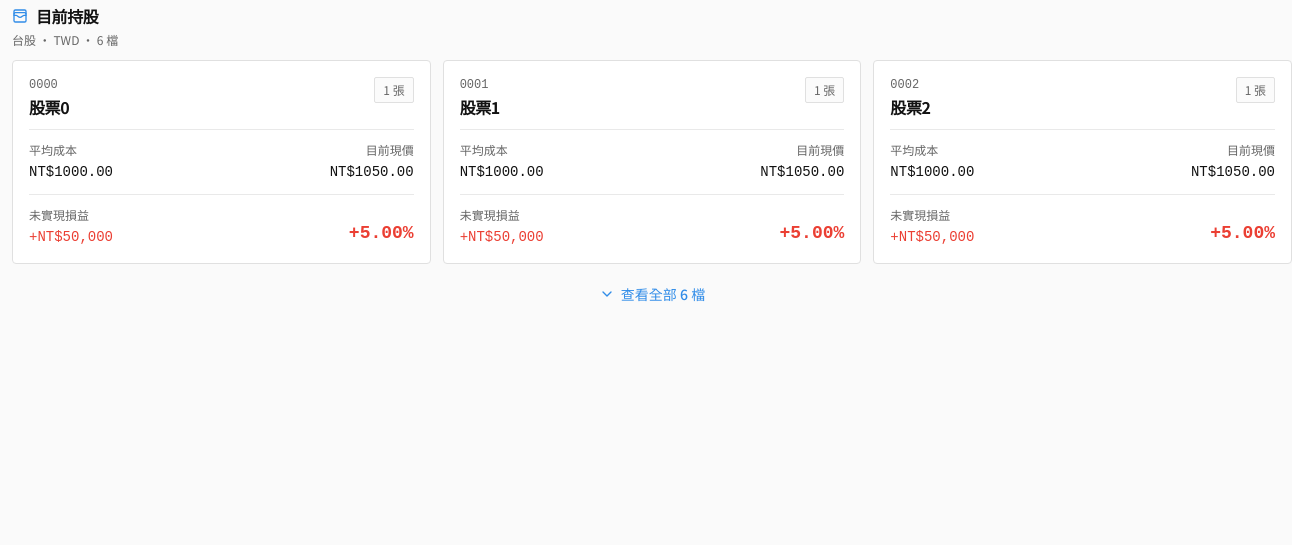
Test: CurrentHoldingsGridView › 預設三檔，可展開六檔並收合
This screenshot has width=1292, height=545.
Expected: the number of elements with test id "journal-holding-card" is 3, 12,60 -> 431,264; 443,60 -> 861,264; 873,60 -> 1291,264
Step 1. Click the button with test id "journal-holdings-toggle" → (652,294), box 587,276 -> 717,312
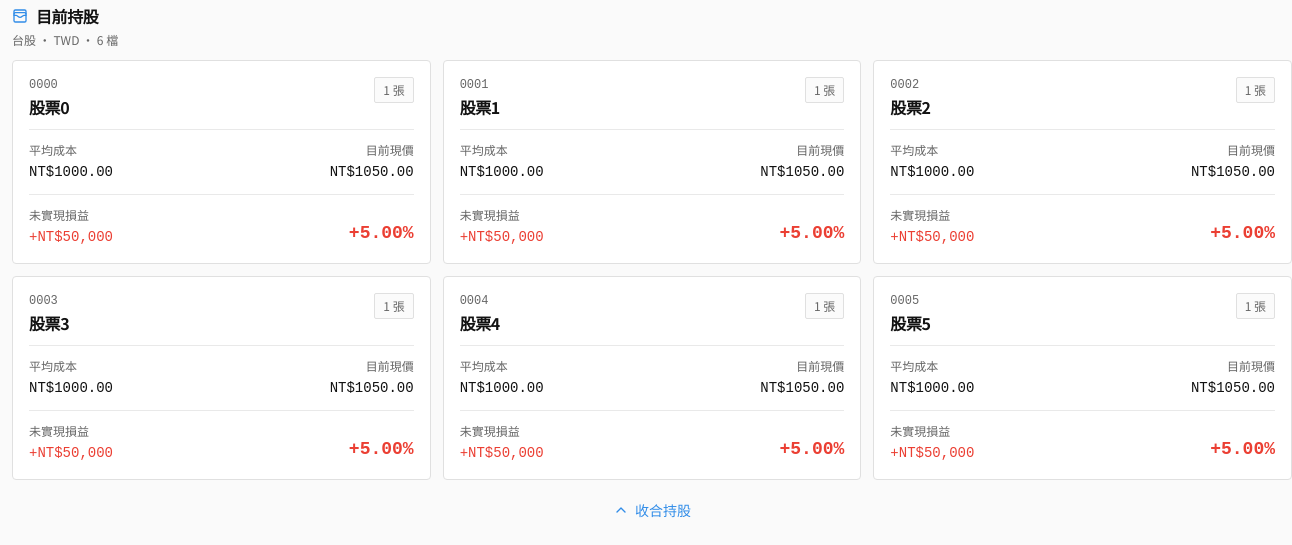
Result: the number of elements with test id "journal-holding-card" is 6 at 12,60 -> 431,264; 443,60 -> 861,264; 873,60 -> 1291,264; 12,276 -> 431,480; 443,276 -> 861,480; 873,276 -> 1291,480
Result: the button with test id "journal-holdings-toggle" is expanded
Step 2. Click the button with test id "journal-holdings-toggle" → (652,510), box 601,492 -> 703,528
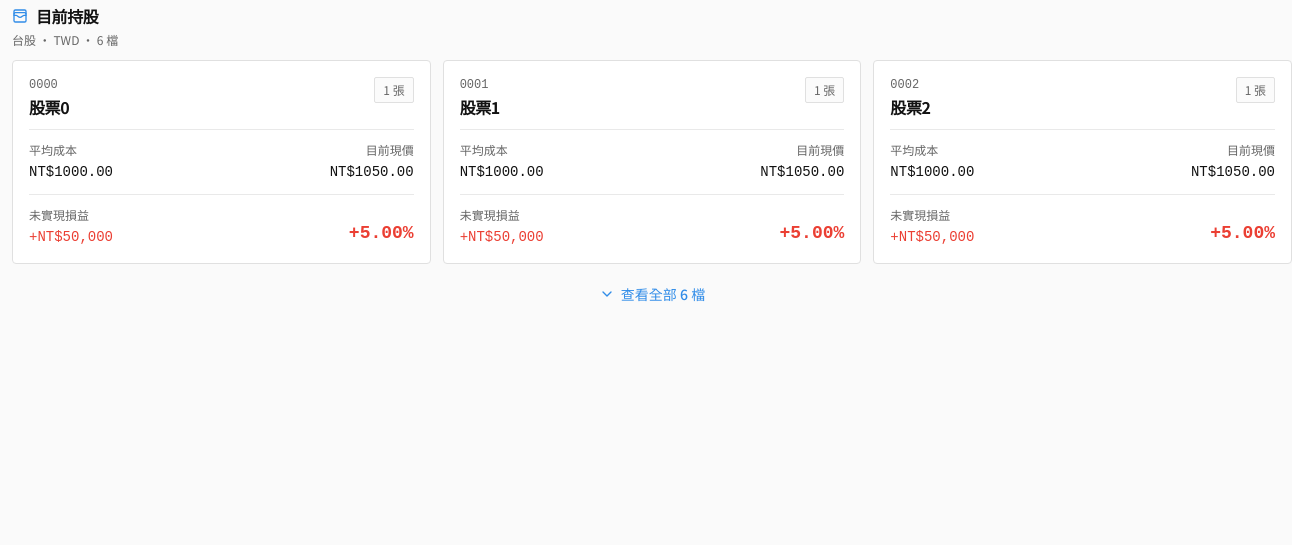
Result: the number of elements with test id "journal-holding-card" is 3 at 12,60 -> 431,264; 443,60 -> 861,264; 873,60 -> 1291,264
